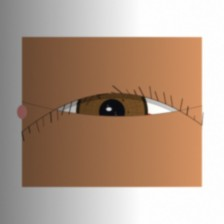hemorrhage_spot: (83, 87, 174, 160)
